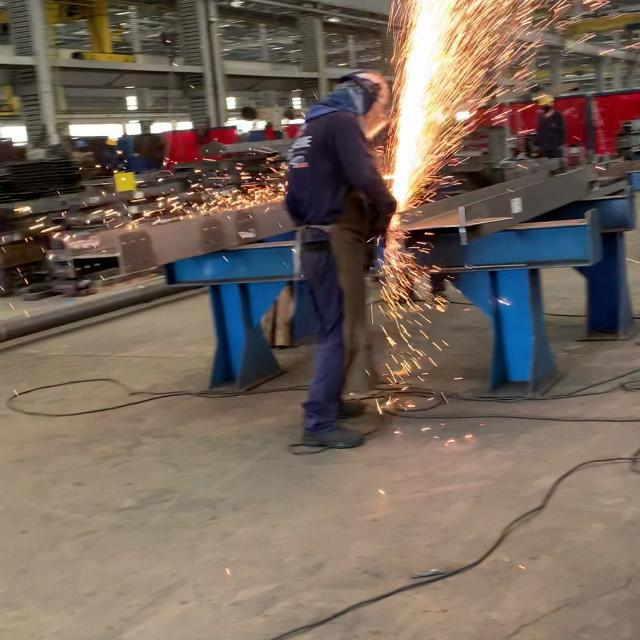eye-glass: (360, 105, 394, 141)
glove: (338, 70, 393, 115)
mask: (285, 71, 396, 450)
safety-shoe: (300, 422, 366, 449), (335, 398, 369, 419)
